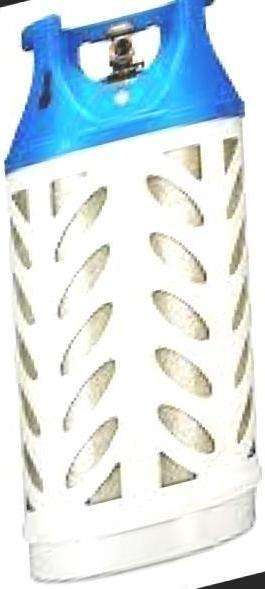cylinder: (1, 0, 265, 589)
